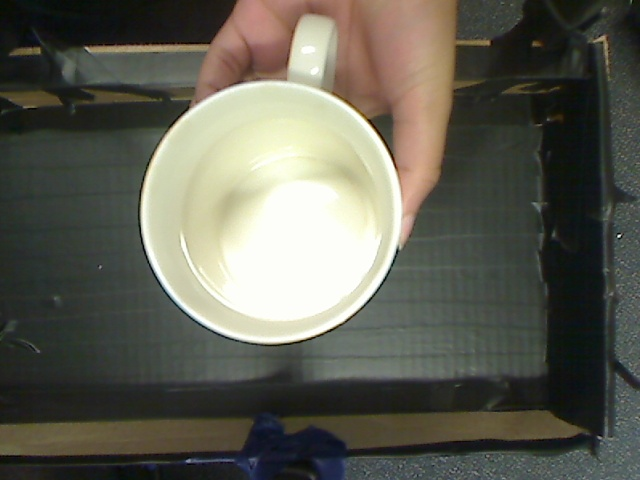mug: (135, 6, 417, 364)
